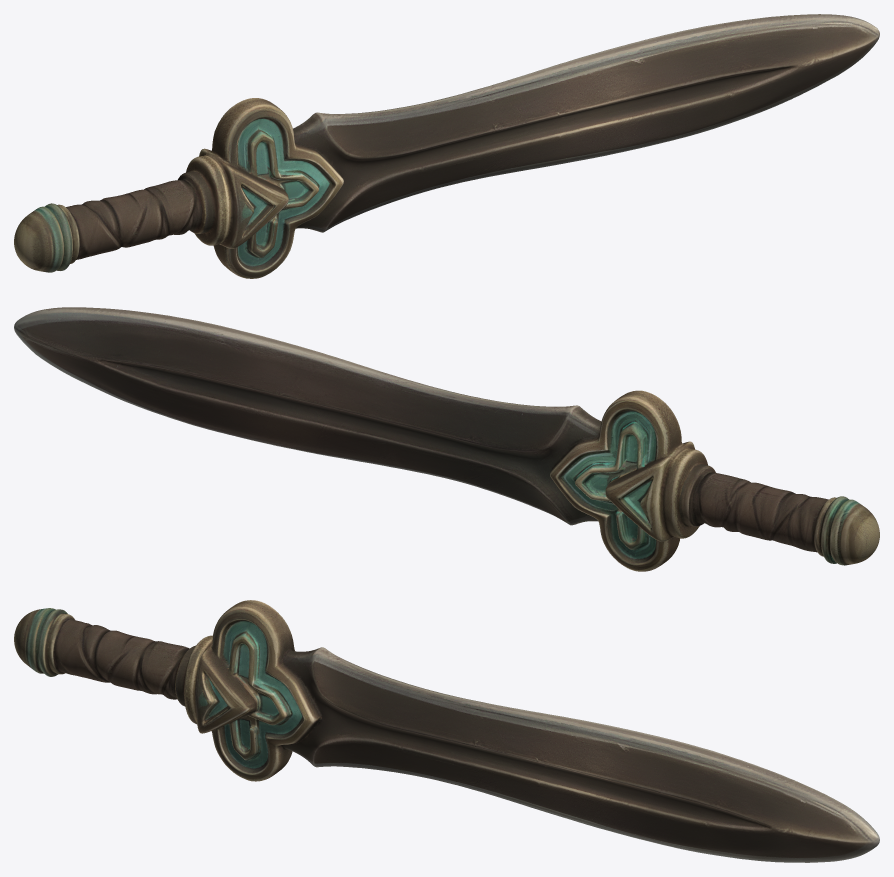
The model's file is sword.glb.
3 views of the same model, one above another, from view 1: azimuth 30°, elevation 25°; view 2: azimuth 150°, elevation 25°; view 3: azimuth 330°, elevation 25° (orthographic).
Bounding box in the file's own units: 1.9 × 0.3664 × 0.1727.
Materials: 1 (1 with a texture image).
